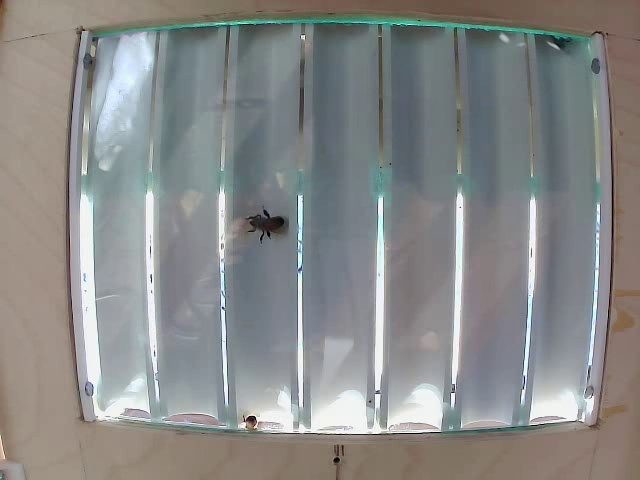bee: (238, 197, 293, 254)
